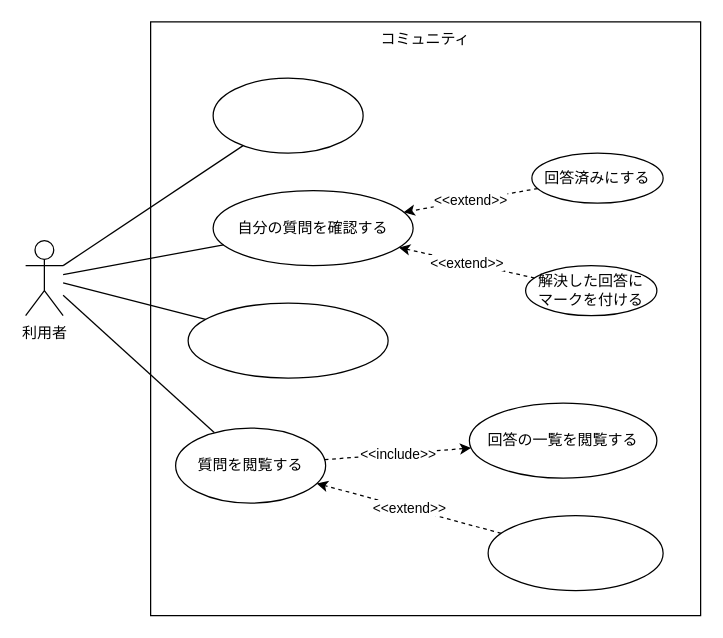
Image size: 723x638. Some labels were removed from this diagram. The centre of each missing label's shape, as x and y in pixels:
質問の回答を投稿する: point 575,552
質問を投稿する: point 287,340
質問を検索する: point 287,115
